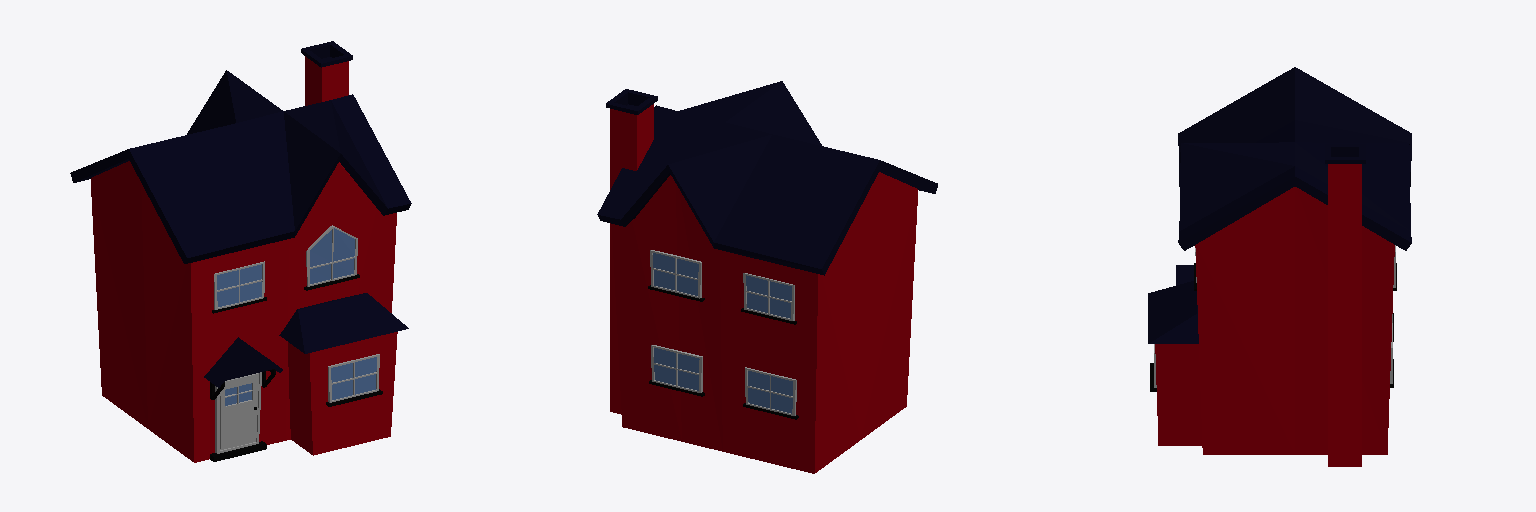
The model's file is building_house2.obj.
The picture shows the model from 3 angles: view 1: azimuth 30°, elevation 25°; view 2: azimuth 150°, elevation 25°; view 3: azimuth 270°, elevation 25°; orthographic projection.
Visible parts, largest first — view 1: Cube, Cube.001, Cube.007, Cube.002, Cube.008_Cube.009, Cube.055_Cube.056, Cube.003, Cube.054_Cube.055, Cube.056_Cube.057, Cube.005, Cube.061_Cube.062, Cube.014_Cube.015 (+3 smaller); view 2: Cube, Cube.001, Cube.003, Cube.059_Cube.060, Cube.058_Cube.059, Cube.057_Cube.058, Cube.060_Cube.061, Cube.061_Cube.062, Cube.026_Cube.028, Cube.021_Cube.008, Cube.022_Cube.024, Cube.025_Cube.027; view 3: Cube, Cube.001, Cube.003, Cube.007, Cube.002, Cube.061_Cube.062.
Part boxes in pixels (bbox=[...]): Cube: bbox=[91, 161, 396, 462]; Cube.001: bbox=[70, 70, 411, 263]; Cube.007: bbox=[288, 332, 397, 455]; Cube.002: bbox=[279, 293, 408, 353]; Cube.008_Cube.009: bbox=[215, 372, 261, 453]; Cube.055_Cube.056: bbox=[310, 228, 354, 283]; Cube.003: bbox=[305, 56, 348, 105]; Cube.054_Cube.055: bbox=[217, 264, 261, 306]; Cube.056_Cube.057: bbox=[331, 357, 376, 399]; Cube.005: bbox=[204, 337, 282, 387]; Cube.061_Cube.062: bbox=[301, 41, 352, 67]; Cube.014_Cube.015: bbox=[306, 225, 357, 286]; Cube: bbox=[612, 172, 917, 473]; Cube.001: bbox=[597, 81, 937, 275]; Cube.003: bbox=[610, 104, 653, 414]; Cube.059_Cube.060: bbox=[748, 371, 792, 413]; Cube.058_Cube.059: bbox=[746, 275, 791, 318]; Cube.057_Cube.058: bbox=[653, 253, 698, 295]; Cube.060_Cube.061: bbox=[654, 348, 699, 390]; Cube.061_Cube.062: bbox=[606, 89, 657, 114]; Cube.026_Cube.028: bbox=[651, 345, 702, 392]; Cube.021_Cube.008: bbox=[650, 250, 701, 298]; Cube.022_Cube.024: bbox=[743, 273, 794, 320]; Cube.025_Cube.027: bbox=[745, 367, 796, 415]; Cube: bbox=[1195, 187, 1394, 454]; Cube.001: bbox=[1178, 67, 1411, 250]; Cube.003: bbox=[1328, 164, 1361, 466]; Cube.007: bbox=[1155, 344, 1201, 445]; Cube.002: bbox=[1148, 281, 1198, 343]; Cube.061_Cube.062: bbox=[1325, 144, 1365, 163].
Size of the model in its own units: 5.53 by 6.83 by 5.29.